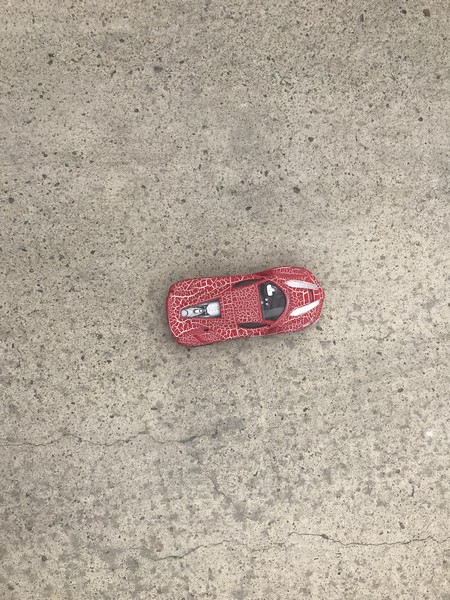RC: (164, 265, 326, 349)
